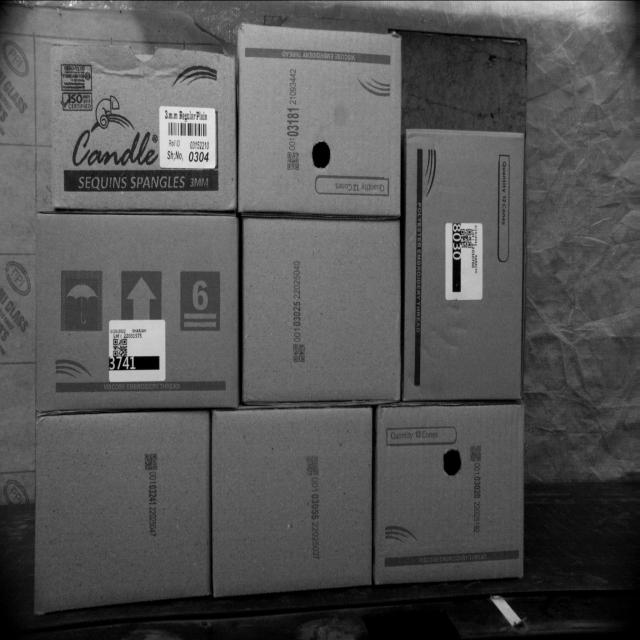cardboxes: (38, 212, 240, 406), (403, 126, 523, 399), (38, 415, 210, 604), (208, 407, 375, 598), (240, 23, 401, 218), (50, 50, 238, 214), (242, 214, 400, 403), (379, 404, 527, 582)
